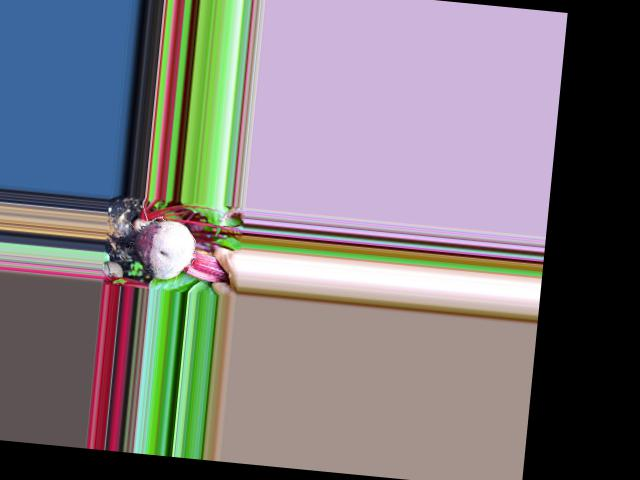beet: (101, 214, 235, 285)
